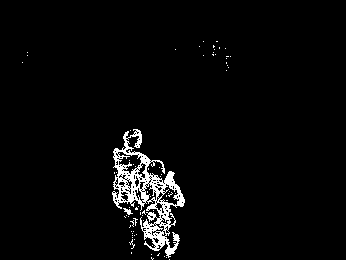person: (138, 158, 187, 260), (112, 127, 151, 253)
